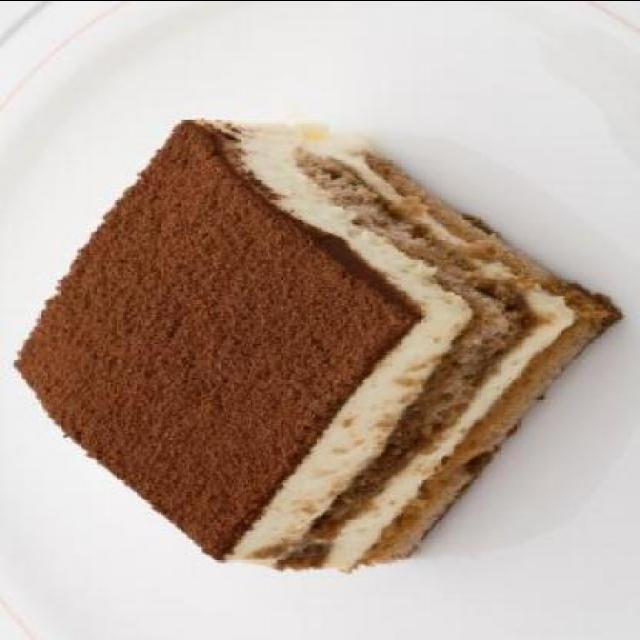Tiramisu: (38, 115, 588, 553)
